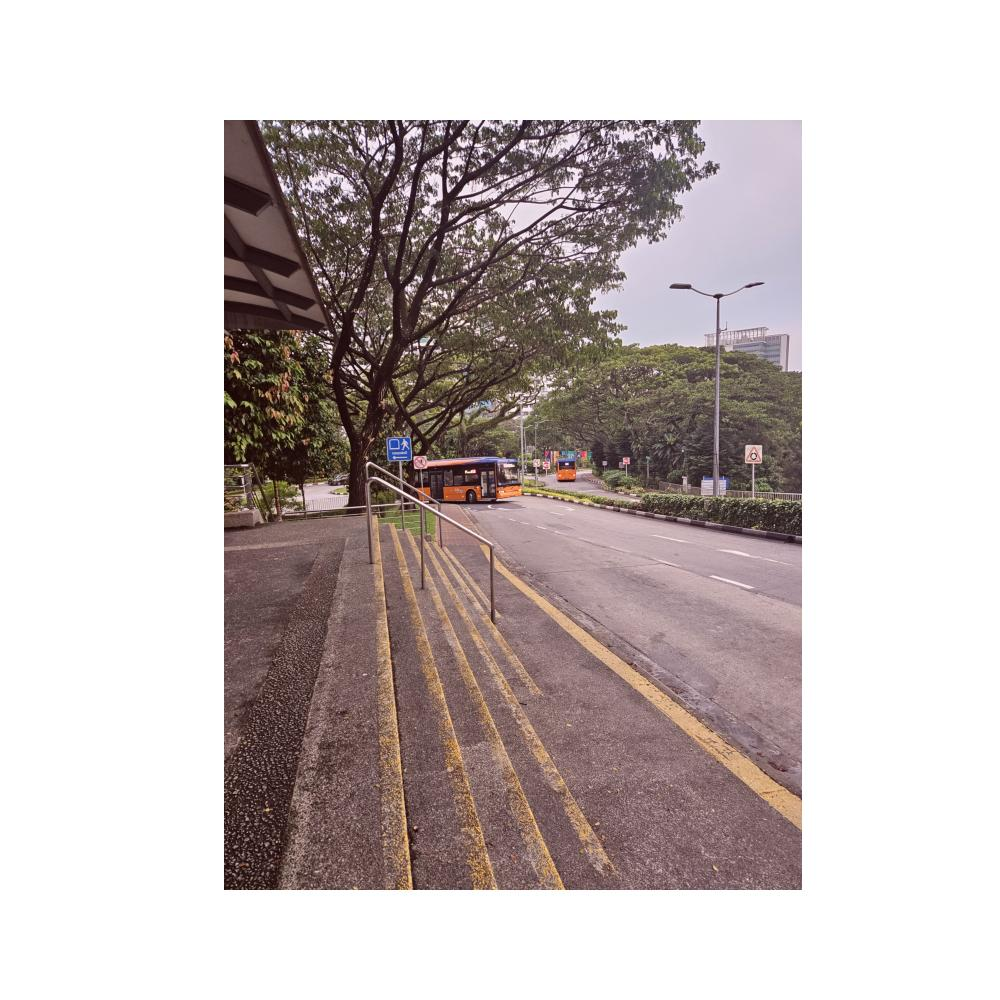bus: (395, 450, 524, 504), (549, 456, 579, 481)
